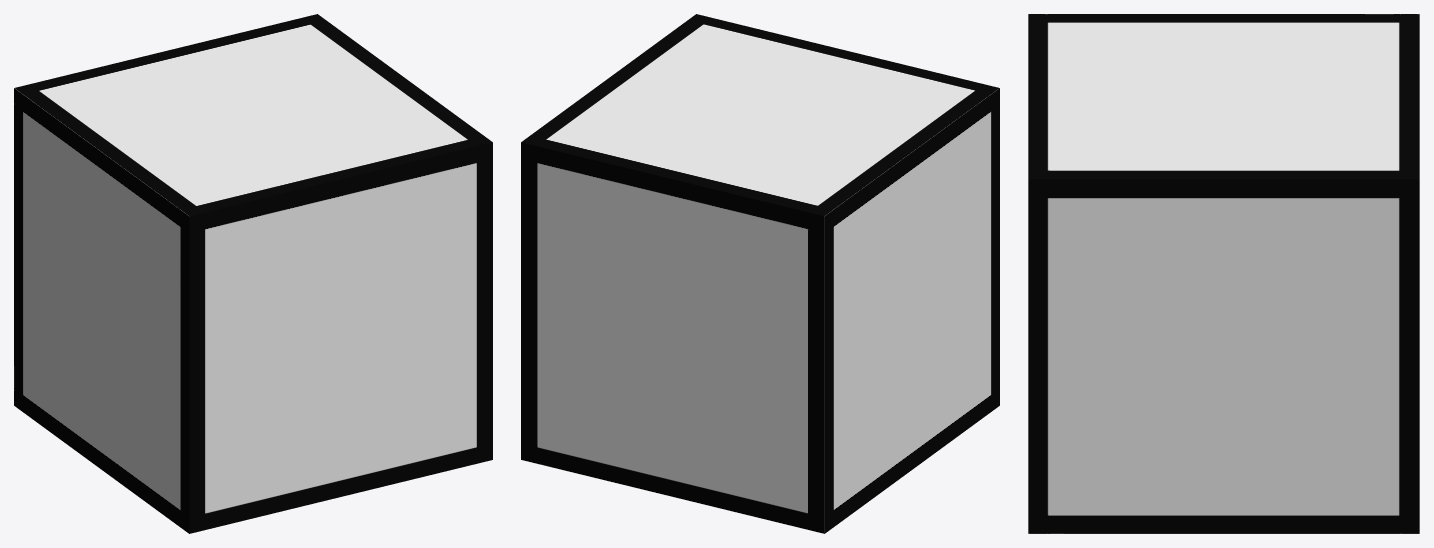
The model's file is player_body.obj.
3 views of the same model, side by side, from view 1: azimuth 30°, elevation 25°; view 2: azimuth 150°, elevation 25°; view 3: azimuth 270°, elevation 25° (orthographic). The views are drawn at different scales.
Parts seen in each view (by area): view 1: 立方体; view 2: 立方体; view 3: 立方体.
Boxes of the visible parts, x1=… form: 立方体: x1=14, y1=14, x2=492, y2=533; 立方体: x1=521, y1=14, x2=999, y2=533; 立方体: x1=1028, y1=14, x2=1419, y2=533.
Bounding box in the file's own units: 2 × 2 × 2.
1 material, 1 textured.
